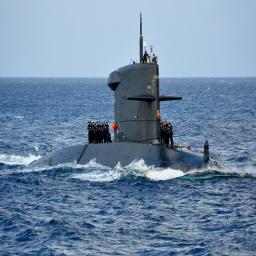submarine: (29, 11, 226, 172)
